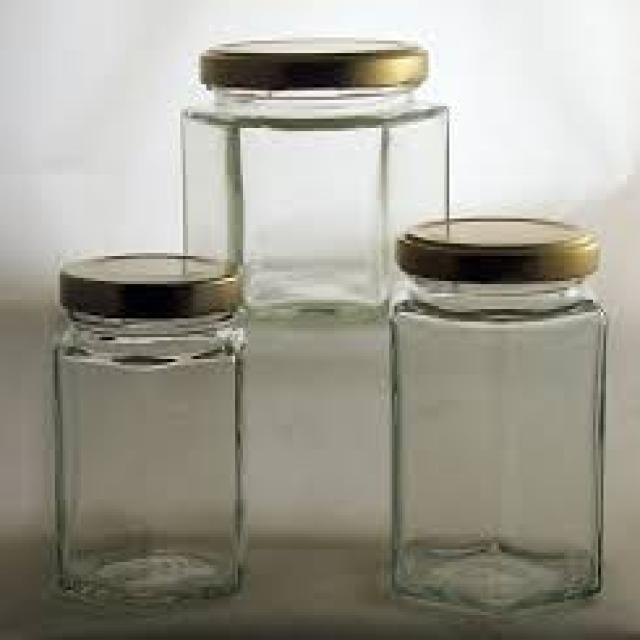glass: (387, 275, 601, 615), (180, 88, 447, 316), (52, 306, 243, 602)
metal: (392, 215, 596, 278), (58, 250, 241, 315), (199, 38, 423, 85)
